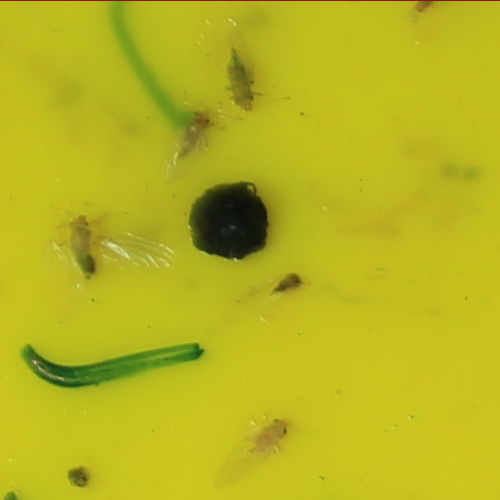Glycaspis: (225, 48, 255, 115), (66, 213, 96, 279), (246, 417, 294, 455), (178, 105, 211, 155)
psylla: (271, 271, 304, 293)
